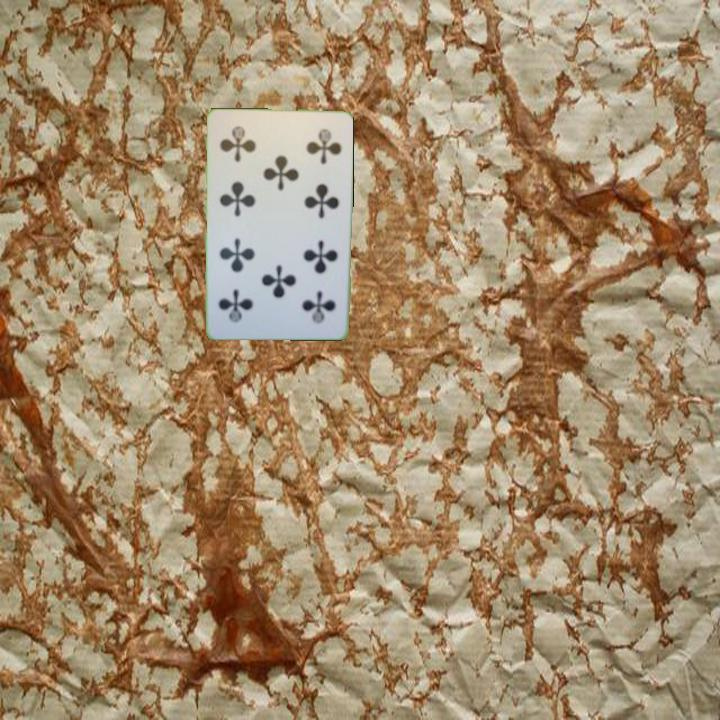c_10.png: (275, 272, 343, 330), (215, 118, 282, 176)
